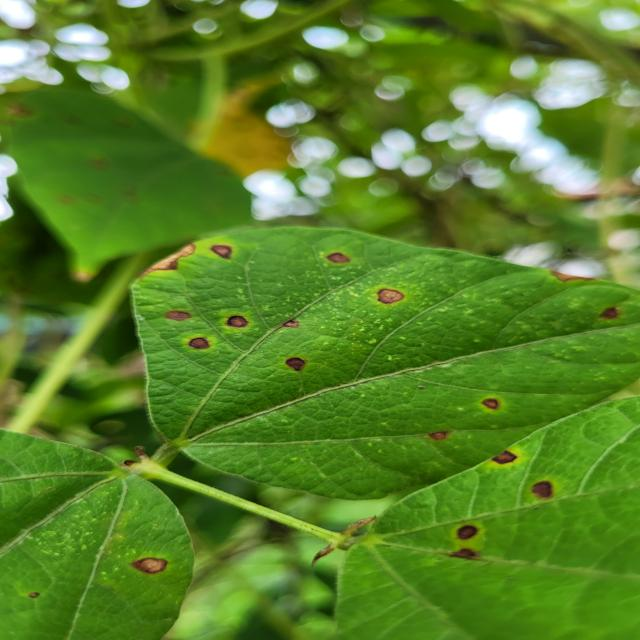Dolicos bean_cercospora leaf spot: (130, 224, 640, 494), (305, 395, 639, 640), (0, 59, 269, 275)
